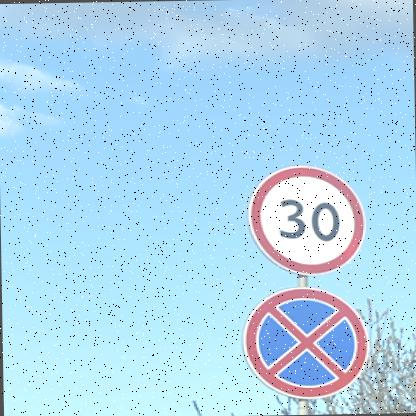speedlimit: (244, 163, 364, 275)
